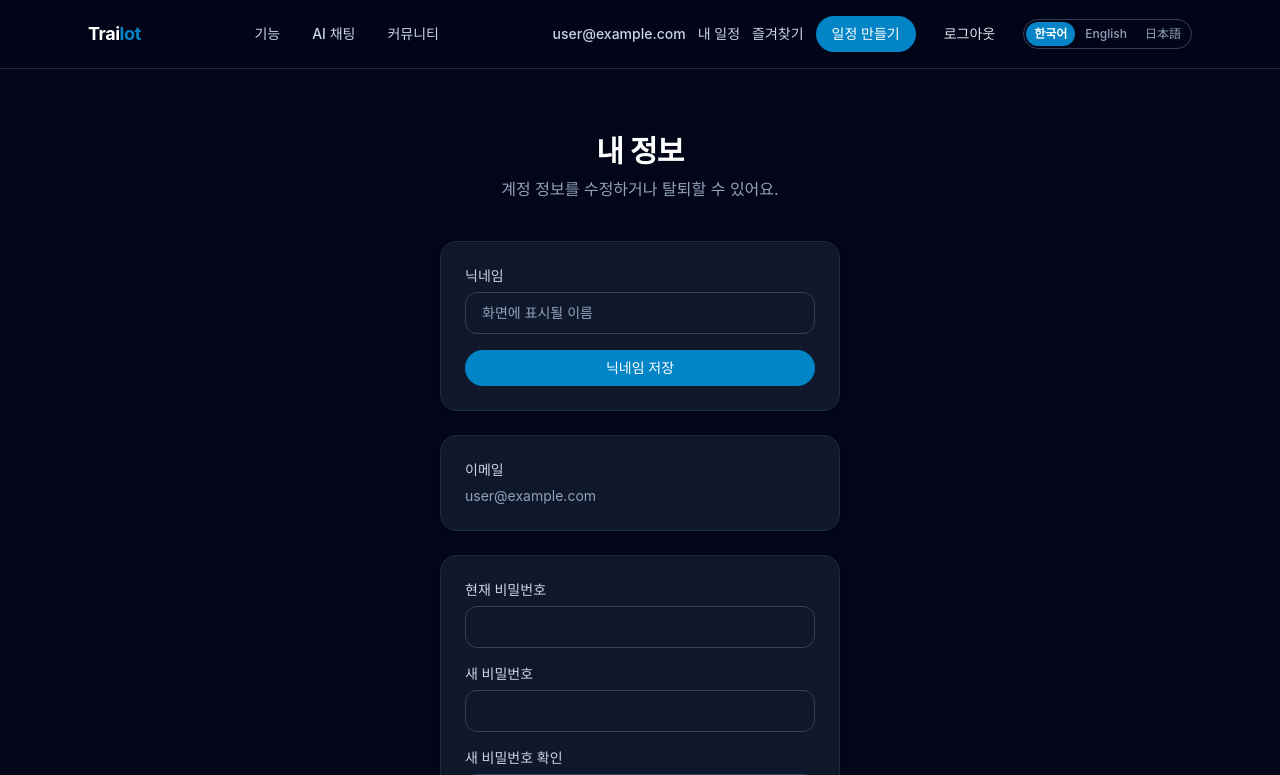
Test: AccountPage › changes the password when the current password is correct
Type "oldpassword1" into the password field labelled "현재 비밀번호" at (640, 627), box [465,606,815,648]
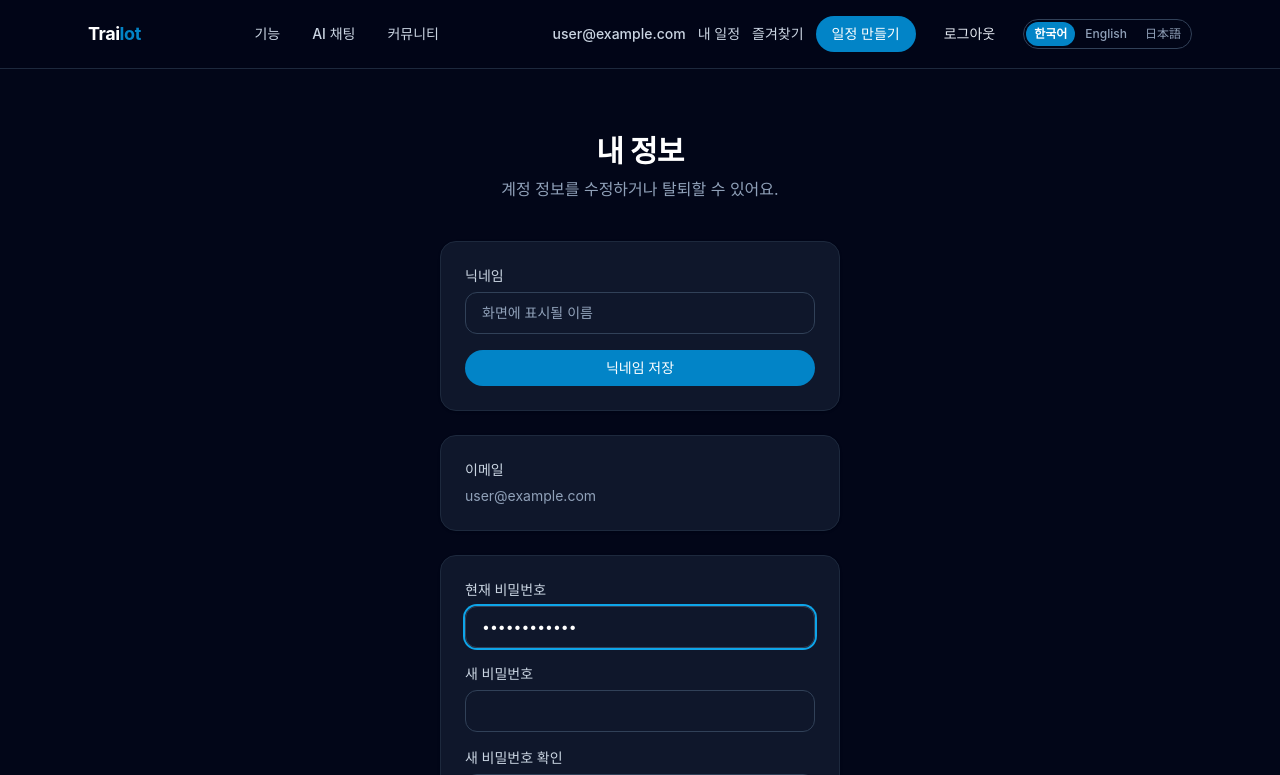
Type "newpassword1" into the password field labelled "새 비밀번호" at (640, 711), box [465,690,815,732]
(page scrolled)
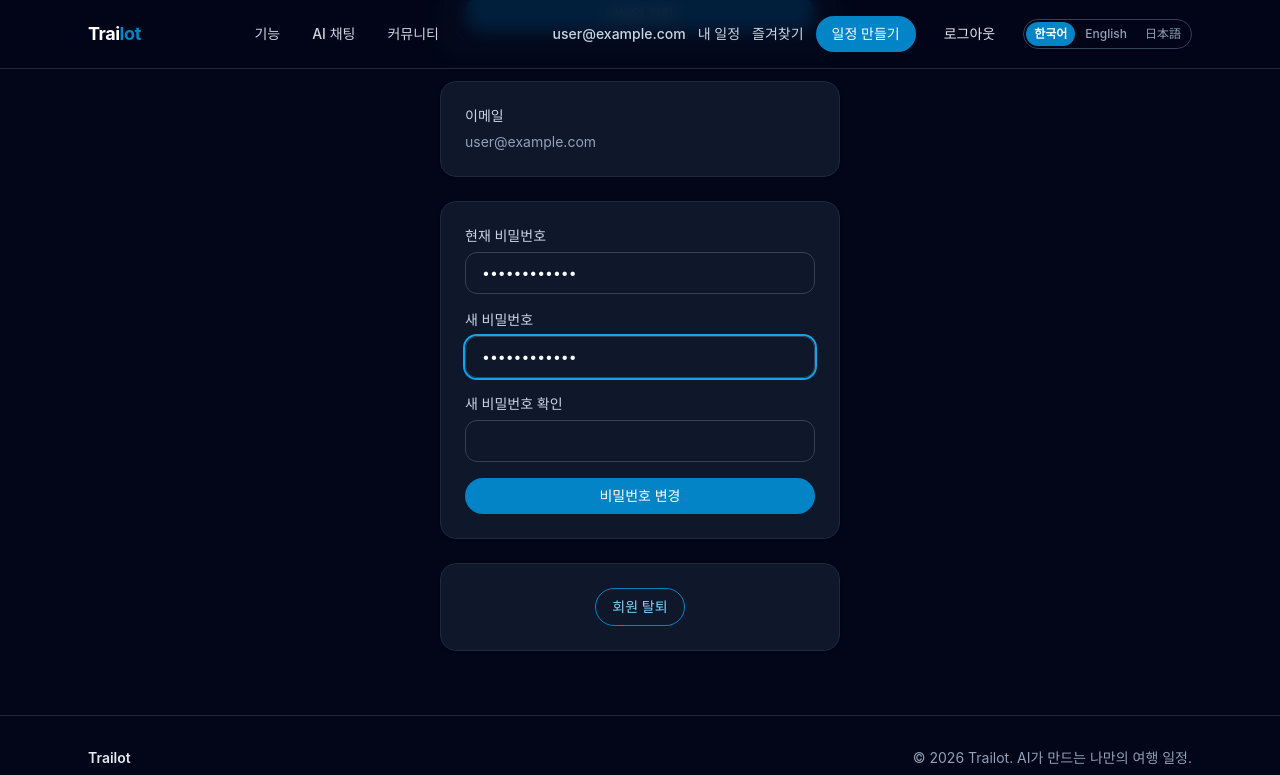
Type "newpassword1" into the password field labelled "새 비밀번호 확인" at (640, 441), box [465,420,815,462]
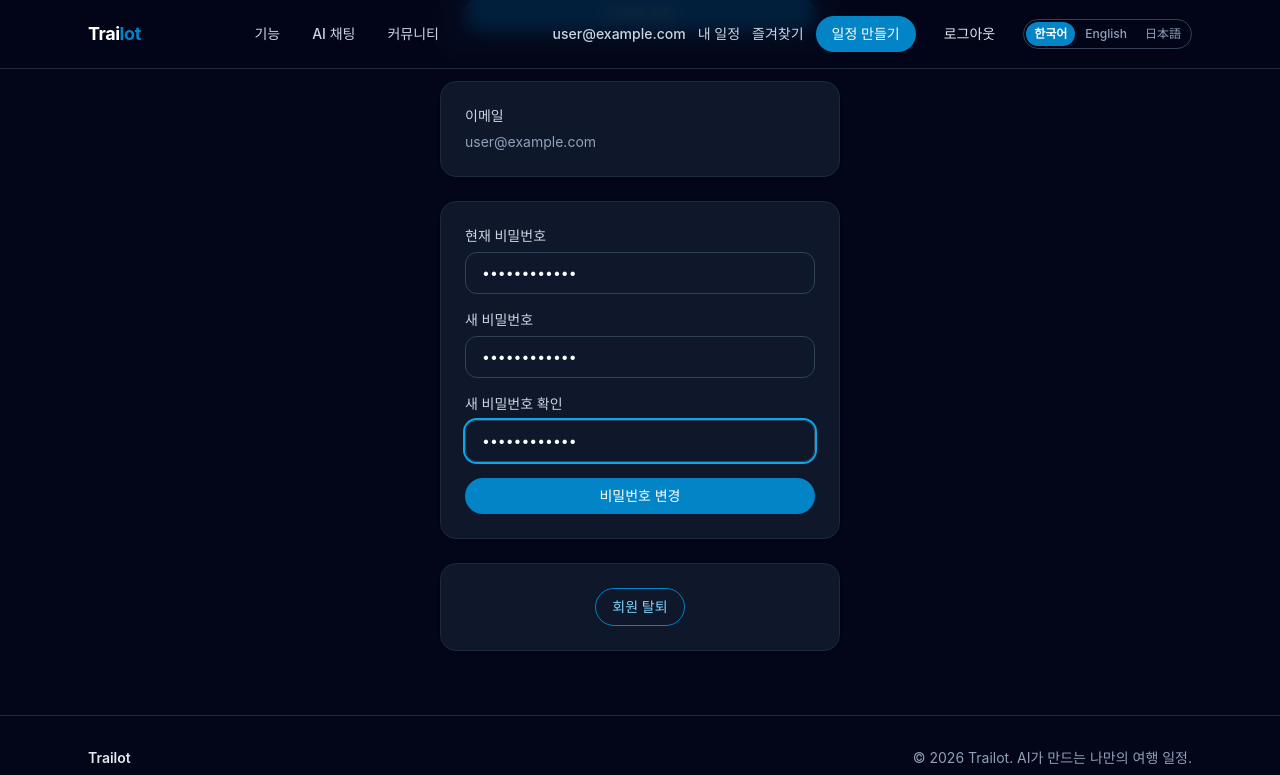
Click the button "비밀번호 변경" at (640, 496), box [465,478,815,514]
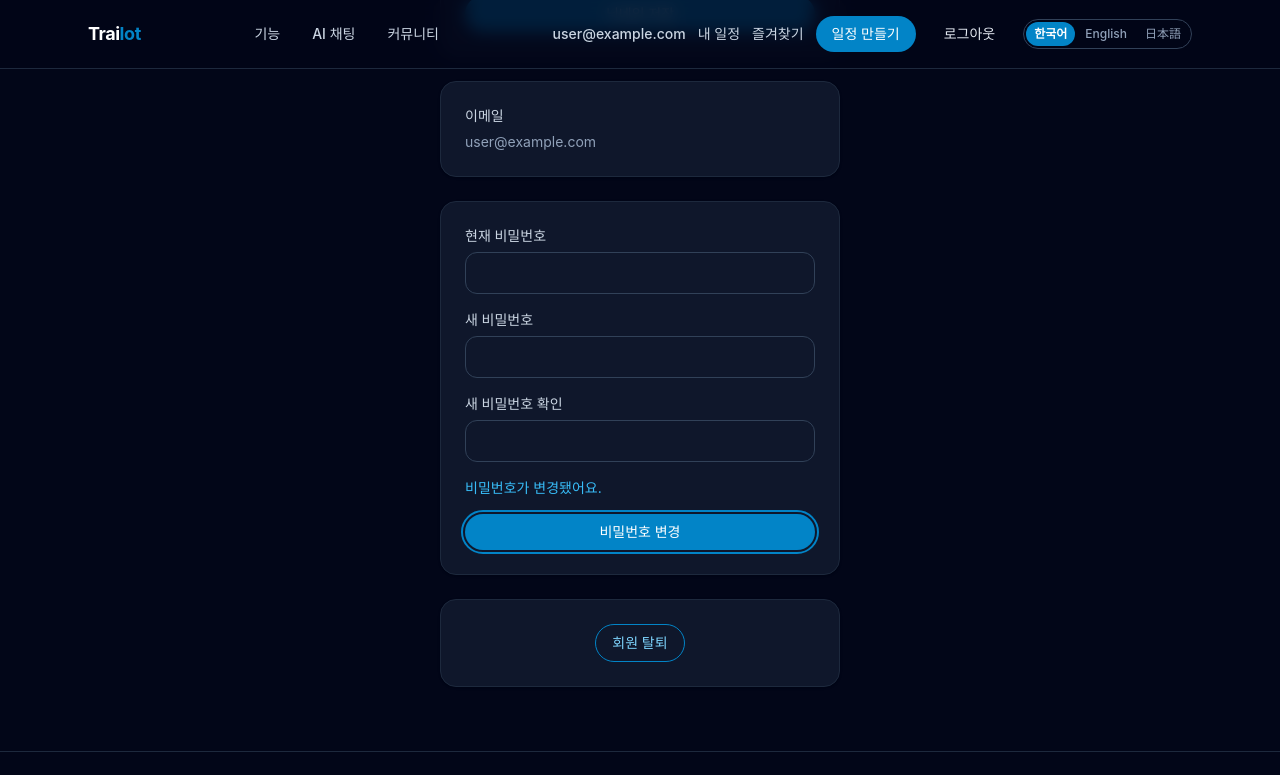
Check: the text "비밀번호가 변경됐어요." is shown, box [465,479,602,496]
